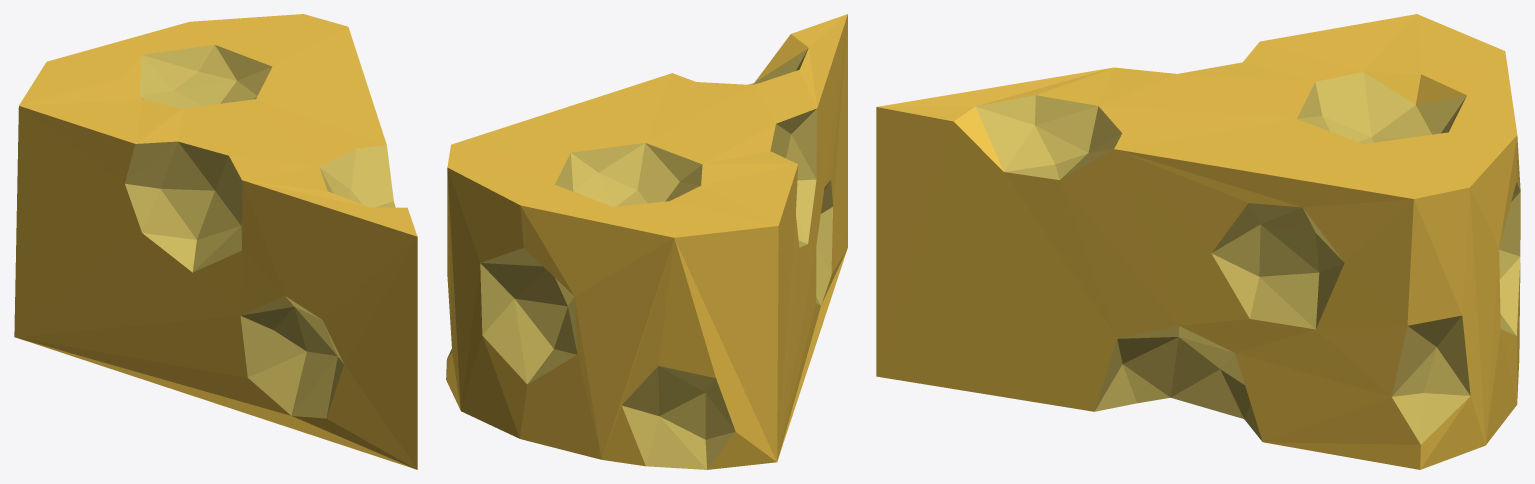
File: Queso.fbx
3 renders of one model, left to right at view 1: azimuth 30°, elevation 25°; view 2: azimuth 150°, elevation 25°; view 3: azimuth 270°, elevation 25°, orthographic. The views are drawn at different scales.
Visible parts, largest first — view 1: Cheese; view 2: Cheese; view 3: Cheese.
Boxes of the visible parts, left/top/right/bottom form: Cheese: left=14, top=14, right=417, bottom=469; Cheese: left=446, top=14, right=847, bottom=469; Cheese: left=876, top=14, right=1520, bottom=469.
Bounding box in the file's own units: 4469 × 3013 × 6499.
